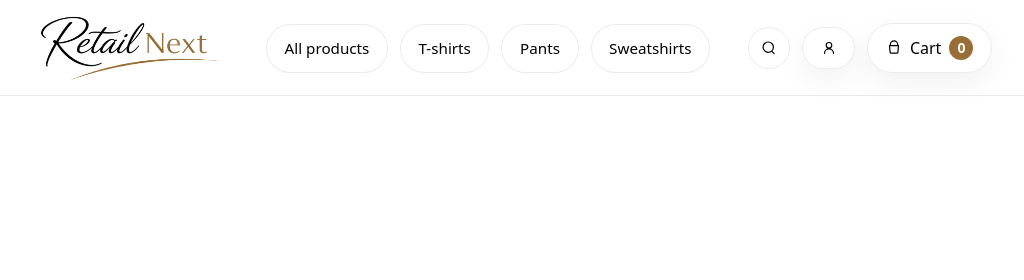
Test: SiteHeader search › shows live typo-tolerant product results
Step 1. Click the button named "Open search" → x=769, y=48, box [749,28,789,68]
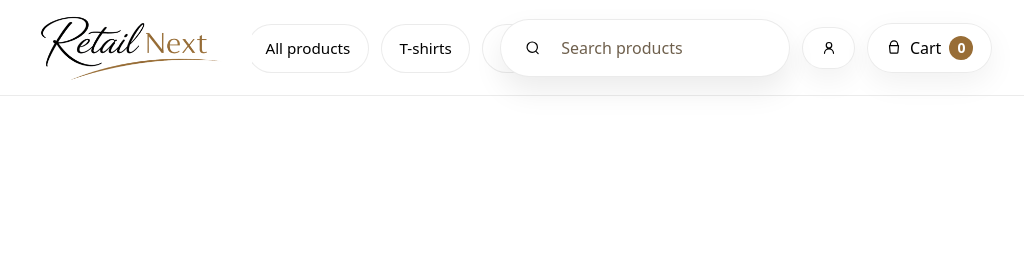
Step 2. Type "essentil" into the field labelled "Search products" → x=669, y=48, box [561,36,777,60]
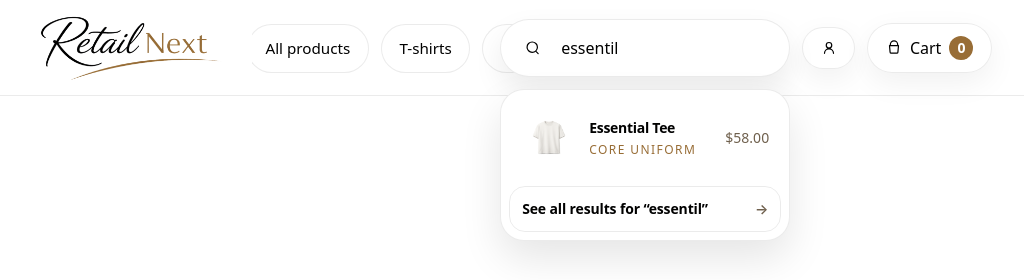
Expected: the text "Essential Tee" is shown, [589,118,675,137]
Expected: the text "CORE UNIFORM" is shown, [589,142,696,158]
